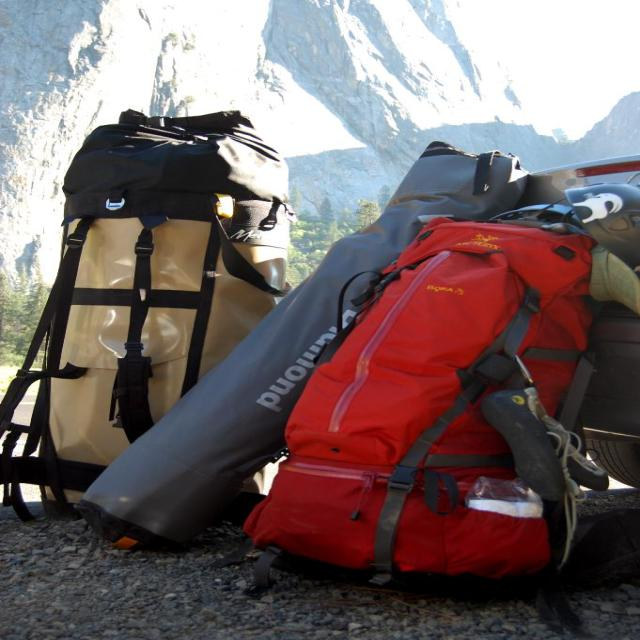backpack: (280, 212, 607, 602), (27, 109, 304, 508)
